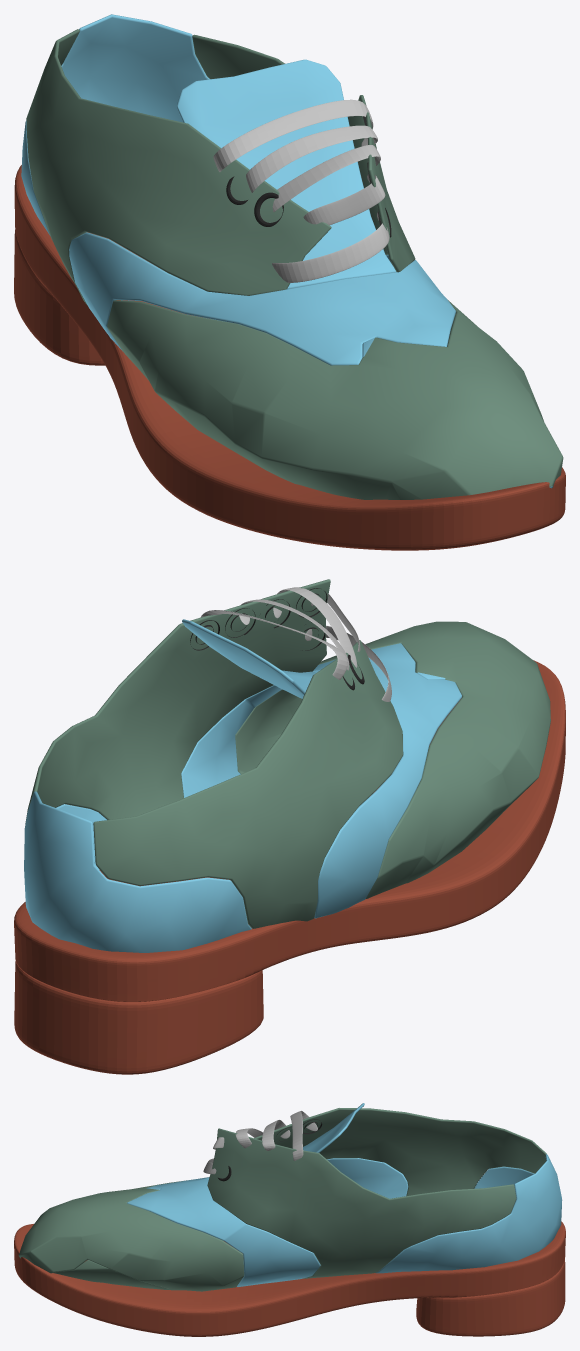
Rendered from za2pri3derecha.fbx.
The picture shows the model from 3 angles, top to bottom: view 1: azimuth 30°, elevation 25°; view 2: azimuth 150°, elevation 25°; view 3: azimuth 270°, elevation 25°; orthographic projection. The views are drawn at different scales.
Parts seen in each view (by area): view 1: zapato2, Plane, Plane.004, Plane.005, Plane.003, Plane.001, Plane.002; view 2: zapato2, Plane, Plane.001, Plane.004; view 3: zapato2, Plane, Plane.004, Plane.003, Plane.001.
Boxes of the visible parts, x1,y1,x2,y2 form: zapato2: (21, 14, 563, 499); Plane: (14, 165, 565, 550); Plane.004: (213, 99, 373, 171); Plane.005: (272, 212, 389, 282); Plane.003: (246, 125, 377, 192); Plane.001: (272, 145, 380, 211); Plane.002: (303, 174, 385, 225); zapato2: (24, 579, 550, 952); Plane: (14, 660, 565, 1074); Plane.001: (273, 587, 357, 667); Plane.004: (200, 610, 347, 679); zapato2: (18, 1103, 562, 1291); Plane: (14, 1221, 565, 1336); Plane.004: (290, 1110, 317, 1160); Plane.003: (262, 1119, 290, 1150); Plane.001: (235, 1128, 262, 1148).
Size of the model in its own units: 169 by 176 by 447.
